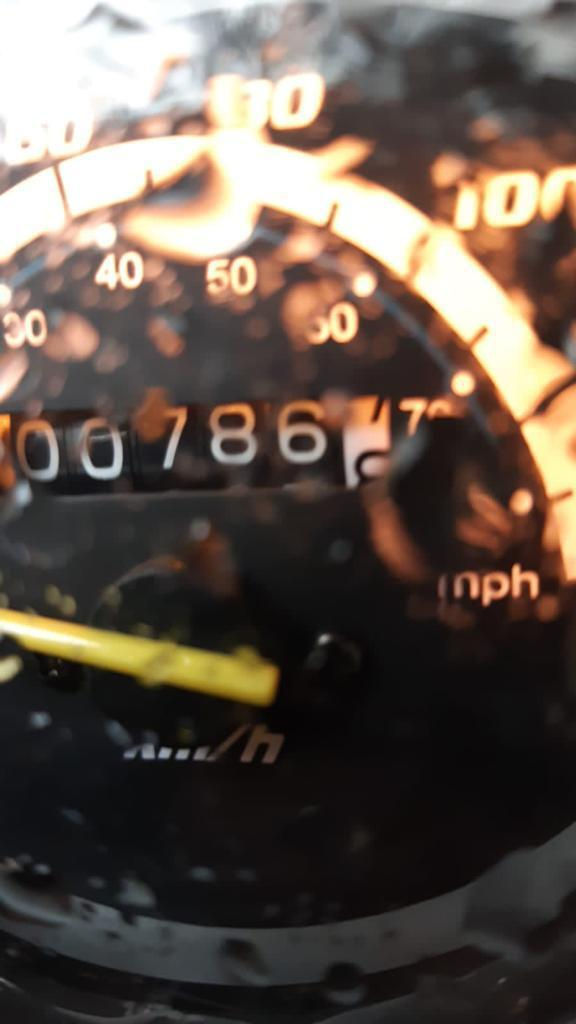0: (9, 411, 67, 493), (72, 410, 129, 487)
6: (274, 395, 330, 471)
7: (144, 399, 193, 478)
8: (202, 401, 267, 482), (346, 435, 402, 506)
odometer: (0, 381, 412, 514)
